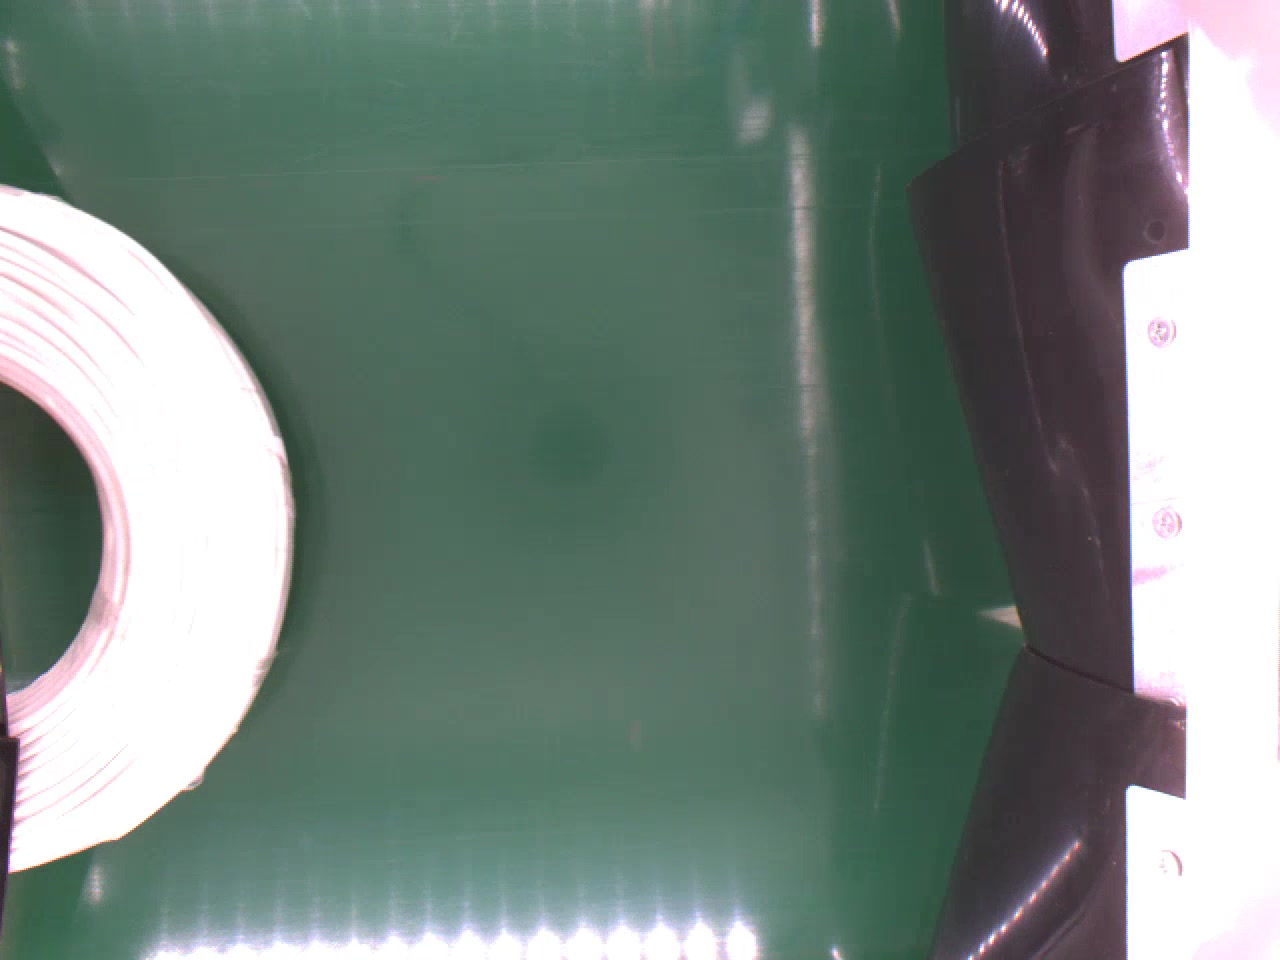white: (0, 181, 299, 877)
